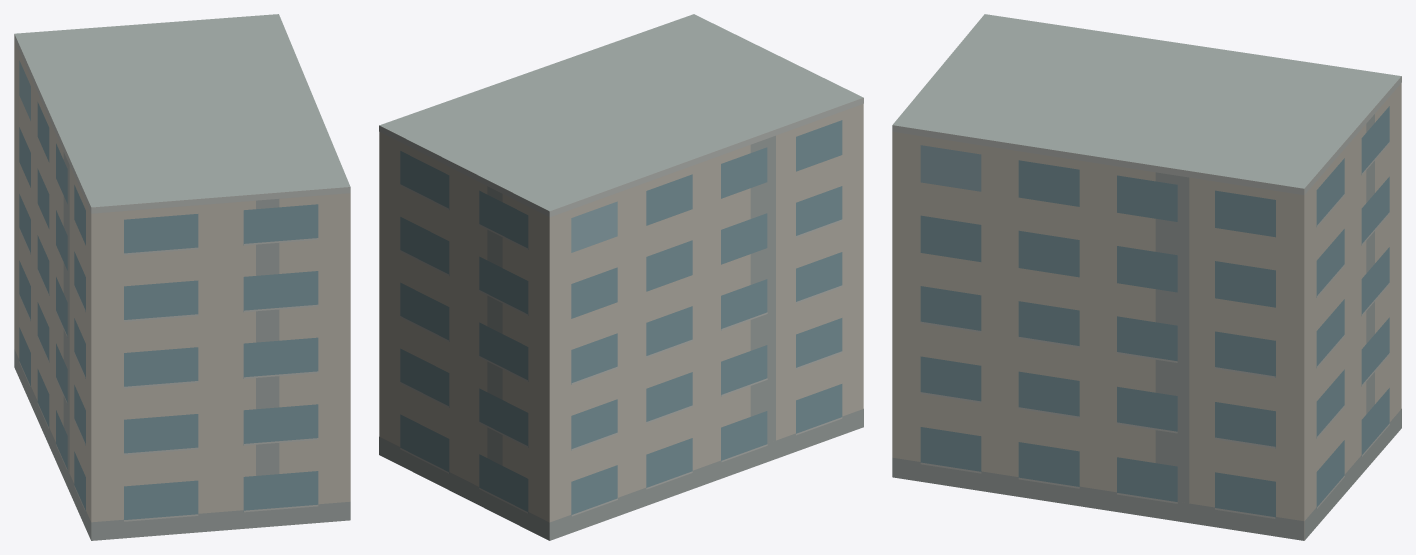
File: survey-upis-32889266.glb
The picture shows the model from 3 angles, left to right: view 1: azimuth 30°, elevation 25°; view 2: azimuth 150°, elevation 25°; view 3: azimuth 270°, elevation 25°; orthographic projection. The views are drawn at different scales.
Visible parts, largest first — view 1: survey-upis-32889266.tmp; view 2: survey-upis-32889266.tmp; view 3: survey-upis-32889266.tmp.
Part boxes in pixels (bbox=[...]): survey-upis-32889266.tmp: bbox=[14, 14, 350, 540]; survey-upis-32889266.tmp: bbox=[379, 14, 863, 540]; survey-upis-32889266.tmp: bbox=[892, 14, 1401, 540].
Size of the model in its own units: 13.95 by 13.1 by 17.18.
